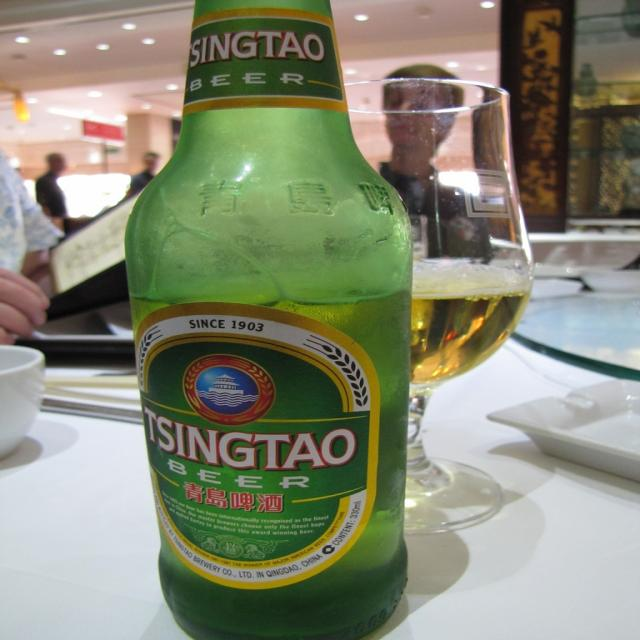tsingtao: (133, 301, 381, 590)
